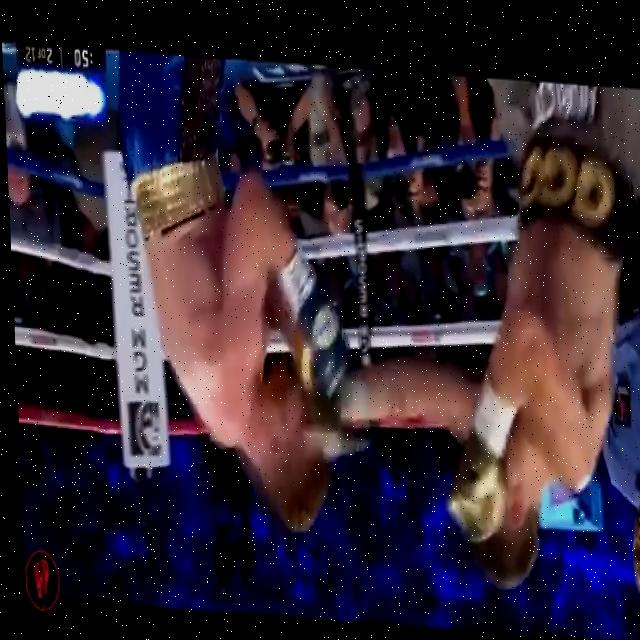Jab: (290, 317, 524, 491)
